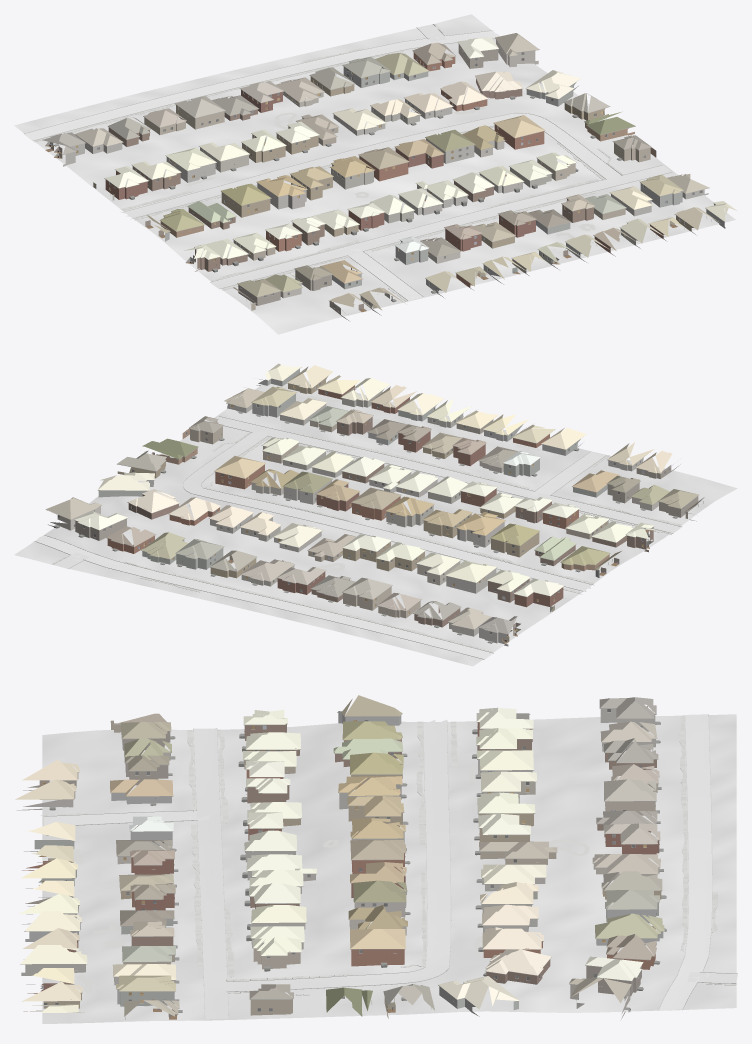
3 views of the same model, one above another, from view 1: azimuth 30°, elevation 25°; view 2: azimuth 150°, elevation 25°; view 3: azimuth 270°, elevation 25° (orthographic). The views are drawn at different scales.
Parts seen in each view (by area): view 1: ground, roof, wall, concrete, wall_stucco, detail, wall_stone, walk, curb, room, glass; view 2: roof, ground, wall, concrete, wall_stucco, detail, wall_stone, walk, curb, glass; view 3: ground, roof, concrete, wall, wall_stucco, walk, detail, curb, wall_stone, glass.
Boxes of the visible parts, box(x1,y1,x2,y2) form: ground: box(14, 14, 735, 334); roof: box(42, 33, 736, 310); wall: box(105, 44, 695, 320); concrete: box(24, 24, 671, 300); wall_stucco: box(112, 40, 725, 298); detail: box(54, 38, 724, 311); wall_stone: box(63, 99, 708, 315); walk: box(33, 24, 672, 302); curb: box(23, 24, 671, 301); room: box(45, 74, 677, 312); glass: box(97, 46, 701, 310); roof: box(45, 363, 704, 634); ground: box(14, 380, 737, 666); wall: box(75, 376, 698, 627); concrete: box(37, 416, 681, 659); wall_stucco: box(48, 369, 658, 618); detail: box(54, 367, 703, 643); wall_stone: box(210, 404, 643, 646); walk: box(51, 396, 681, 652); curb: box(34, 416, 681, 659); glass: box(57, 383, 683, 634); ground: box(42, 714, 736, 1024); roof: box(15, 695, 664, 1016); concrete: box(43, 714, 737, 1019); wall: box(22, 720, 661, 1018); wall_stucco: box(21, 711, 663, 1020); walk: box(40, 715, 735, 995); detail: box(20, 708, 666, 1016); curb: box(44, 714, 737, 1018); wall_stone: box(17, 709, 655, 1019); glass: box(41, 709, 642, 1011).
Bounding box in the file's own units: 263 × 19.51 × 261.
